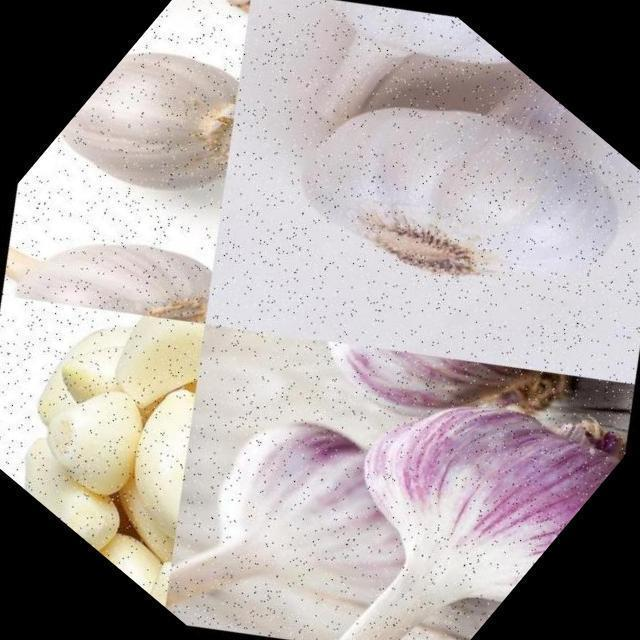garlic: (184, 0, 640, 438), (206, 188, 620, 591), (212, 270, 640, 640), (82, 307, 521, 640), (0, 233, 325, 610), (215, 0, 601, 288), (24, 0, 298, 282), (0, 125, 250, 404)
